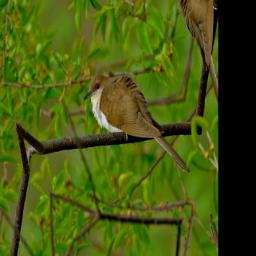Cuckoo: (81, 32, 193, 235)
